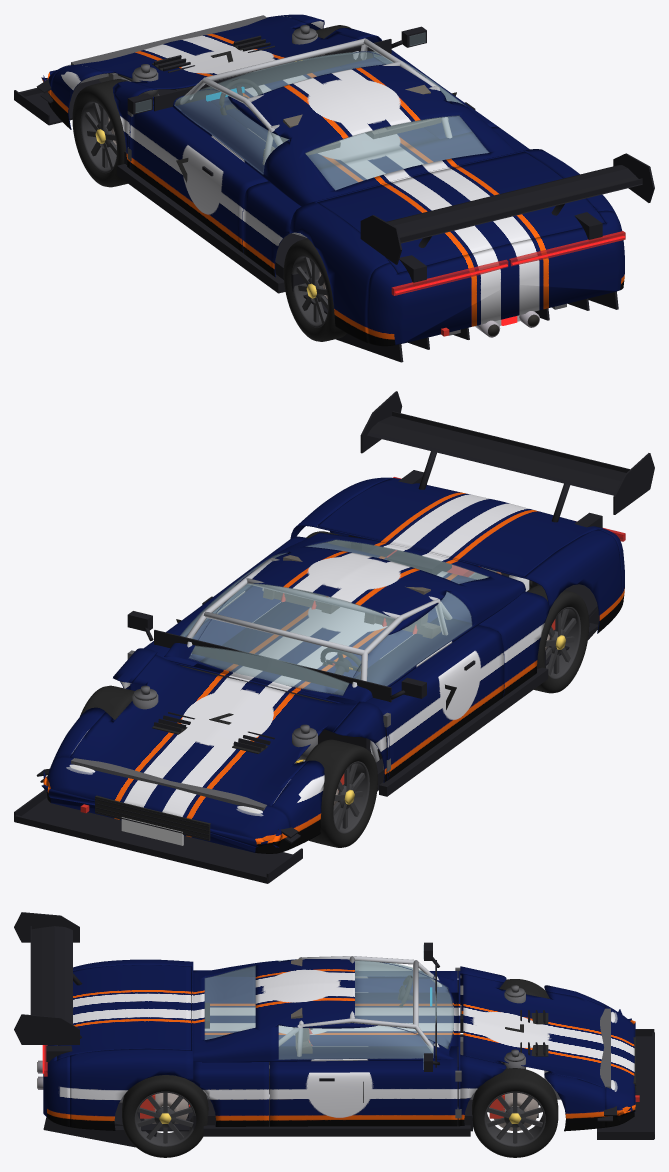
File: midship.glb
The picture shows the model from 3 angles, top to bottom: view 1: azimuth 30°, elevation 25°; view 2: azimuth 150°, elevation 25°; view 3: azimuth 270°, elevation 25°; orthographic projection. The views are drawn at different scales.
Visible parts, largest first — view 1: Bumper_R, Roof_Pillars, Trunk, Door_FL, Body_Sides, RearWing, Hood, Body_Rear, Rear_Glass, Window_FL, Windshield, RollCage (+19 smaller); view 2: Hood, Trunk, Body_Sides, Windshield, Roof_Pillars, Door_FL, RearWing, Bumper_F, Splitter, Body_Rear, Window_FL, Fender_L (+19 smaller); view 3: Door_FR, Body_Sides, Roof_Pillars, Hood, Trunk, Body_Rear, RearWing, Windshield, Window_FR, Fender_R, Tire_FR, Rear_Glass (+18 smaller).
Boxes of the visible parts, <box> form: Bumper_R: <box>366,210,624,346</box>; Roof_Pillars: <box>172,51,516,206</box>; Trunk: <box>317,151,604,273</box>; Door_FL: <box>130,98,267,253</box>; Body_Sides: <box>128,66,529,277</box>; RearWing: <box>360,153,654,264</box>; Hood: <box>71,16,357,89</box>; Body_Rear: <box>289,149,615,342</box>; Rear_Glass: <box>305,115,489,190</box>; Window_FL: <box>174,89,288,174</box>; Windshield: <box>200,51,393,98</box>; RollCage: <box>180,38,451,237</box>; Hood: <box>70,654,356,806</box>; Trunk: <box>317,478,603,576</box>; Body_Sides: <box>130,536,549,780</box>; Windshield: <box>189,583,394,695</box>; Roof_Pillars: <box>164,532,525,702</box>; Door_FL: <box>327,617,504,779</box>; RearWing: <box>360,391,654,522</box>; Bumper_F: <box>41,756,290,853</box>; Splitter: <box>14,789,302,883</box>; Body_Rear: <box>290,478,621,633</box>; Window_FL: <box>353,591,472,685</box>; Fender_L: <box>272,701,387,849</box>; Door_FR: <box>270,1046,457,1126</box>; Body_Sides: <box>193,970,460,1126</box>; Roof_Pillars: <box>191,959,453,1062</box>; Hood: <box>463,974,604,1088</box>; Trunk: <box>57,965,190,1059</box>; Body_Rear: <box>70,959,193,1130</box>; RearWing: <box>14,912,82,1044</box>; Windshield: <box>355,960,453,1048</box>; Window_FR: <box>278,1025,433,1059</box>; Fender_R: <box>460,1054,605,1131</box>; Tire_FR: <box>472,1068,558,1157</box>; Rear_Glass: <box>204,965,255,1039</box>.
Bounding box in the file's own units: 2.21 × 1.25 × 5.04.
31 materials, 1 textured.
